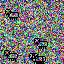sheep: (5, 8, 19, 20), (34, 38, 48, 49), (4, 50, 18, 61), (29, 53, 43, 64), (32, 53, 46, 64)
